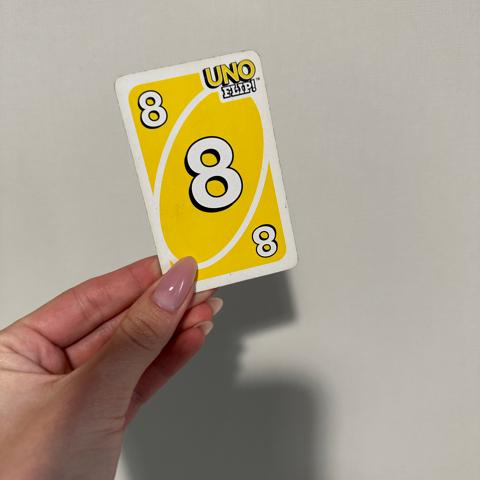lyellow-8: (133, 79, 180, 143)
